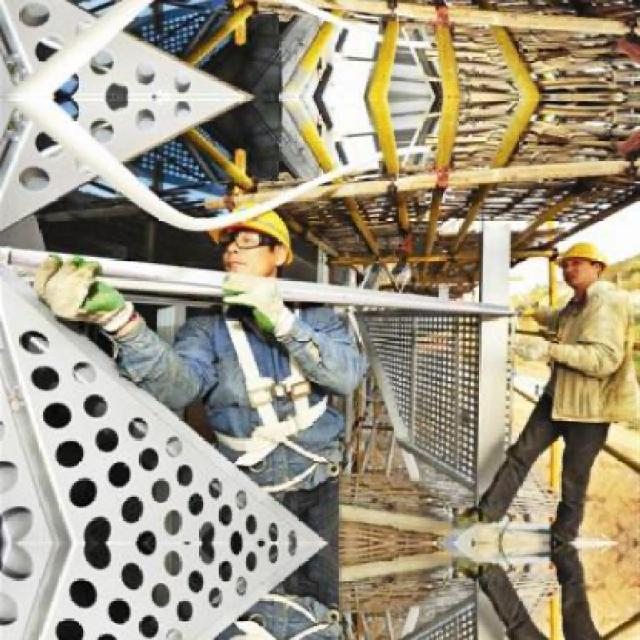helmet: (208, 194, 303, 280), (554, 234, 614, 291)
